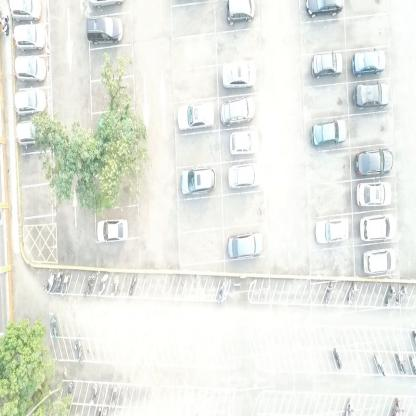car: (354, 145, 394, 177), (310, 115, 346, 150), (220, 95, 256, 128), (180, 164, 216, 197), (177, 100, 214, 132), (227, 230, 265, 260), (351, 48, 387, 78), (359, 213, 396, 242), (227, 160, 264, 189), (352, 82, 390, 110), (221, 60, 256, 90), (362, 246, 398, 275), (314, 216, 350, 245), (86, 16, 122, 45), (15, 119, 51, 148), (12, 53, 46, 83), (310, 51, 344, 80), (13, 87, 47, 116), (356, 181, 392, 207), (12, 24, 46, 51), (96, 218, 127, 244), (225, 0, 257, 25), (230, 130, 261, 155), (8, 0, 43, 22), (303, 0, 344, 18)
